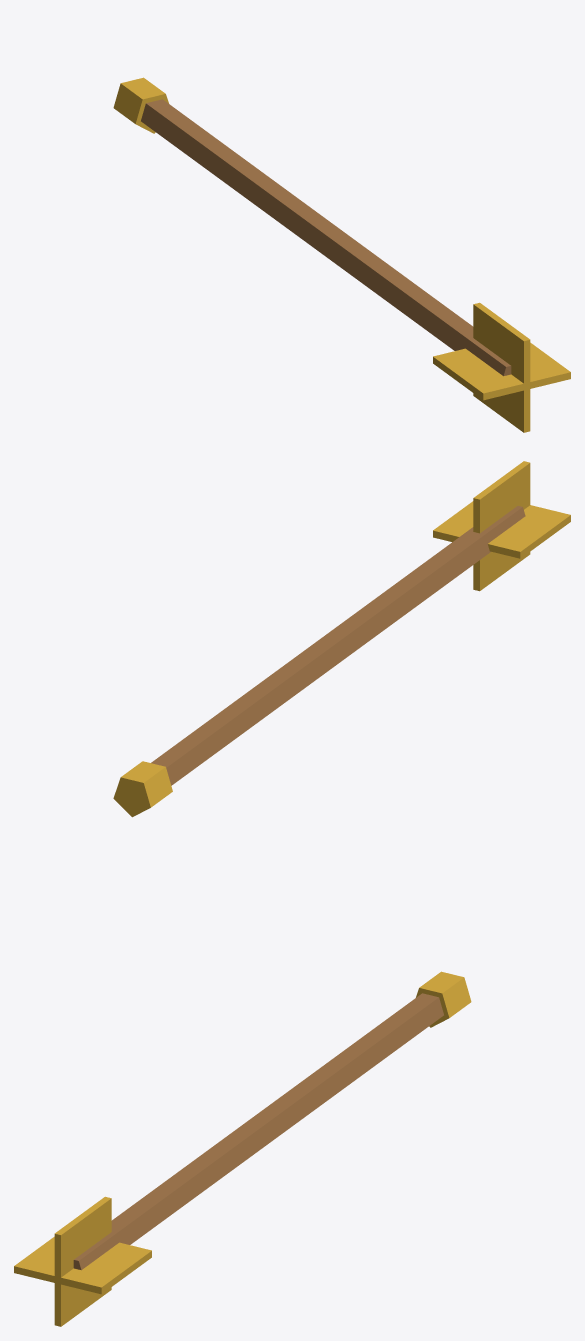
File: WP_EvoJavelin.fbx
3 renders of one model, top to bottom at view 1: azimuth 30°, elevation 25°; view 2: azimuth 150°, elevation 25°; view 3: azimuth 330°, elevation 25°, orthographic.
Visible parts, largest first — view 1: WP_EvoJavelin; view 2: WP_EvoJavelin; view 3: WP_EvoJavelin.
Part boxes in pixels (x1,y1,x2,y2): WP_EvoJavelin: [113, 77, 570, 432]; WP_EvoJavelin: [113, 461, 570, 817]; WP_EvoJavelin: [14, 971, 471, 1326].
Size of the model in its own units: 0.16 by 1.52 by 0.1859.
